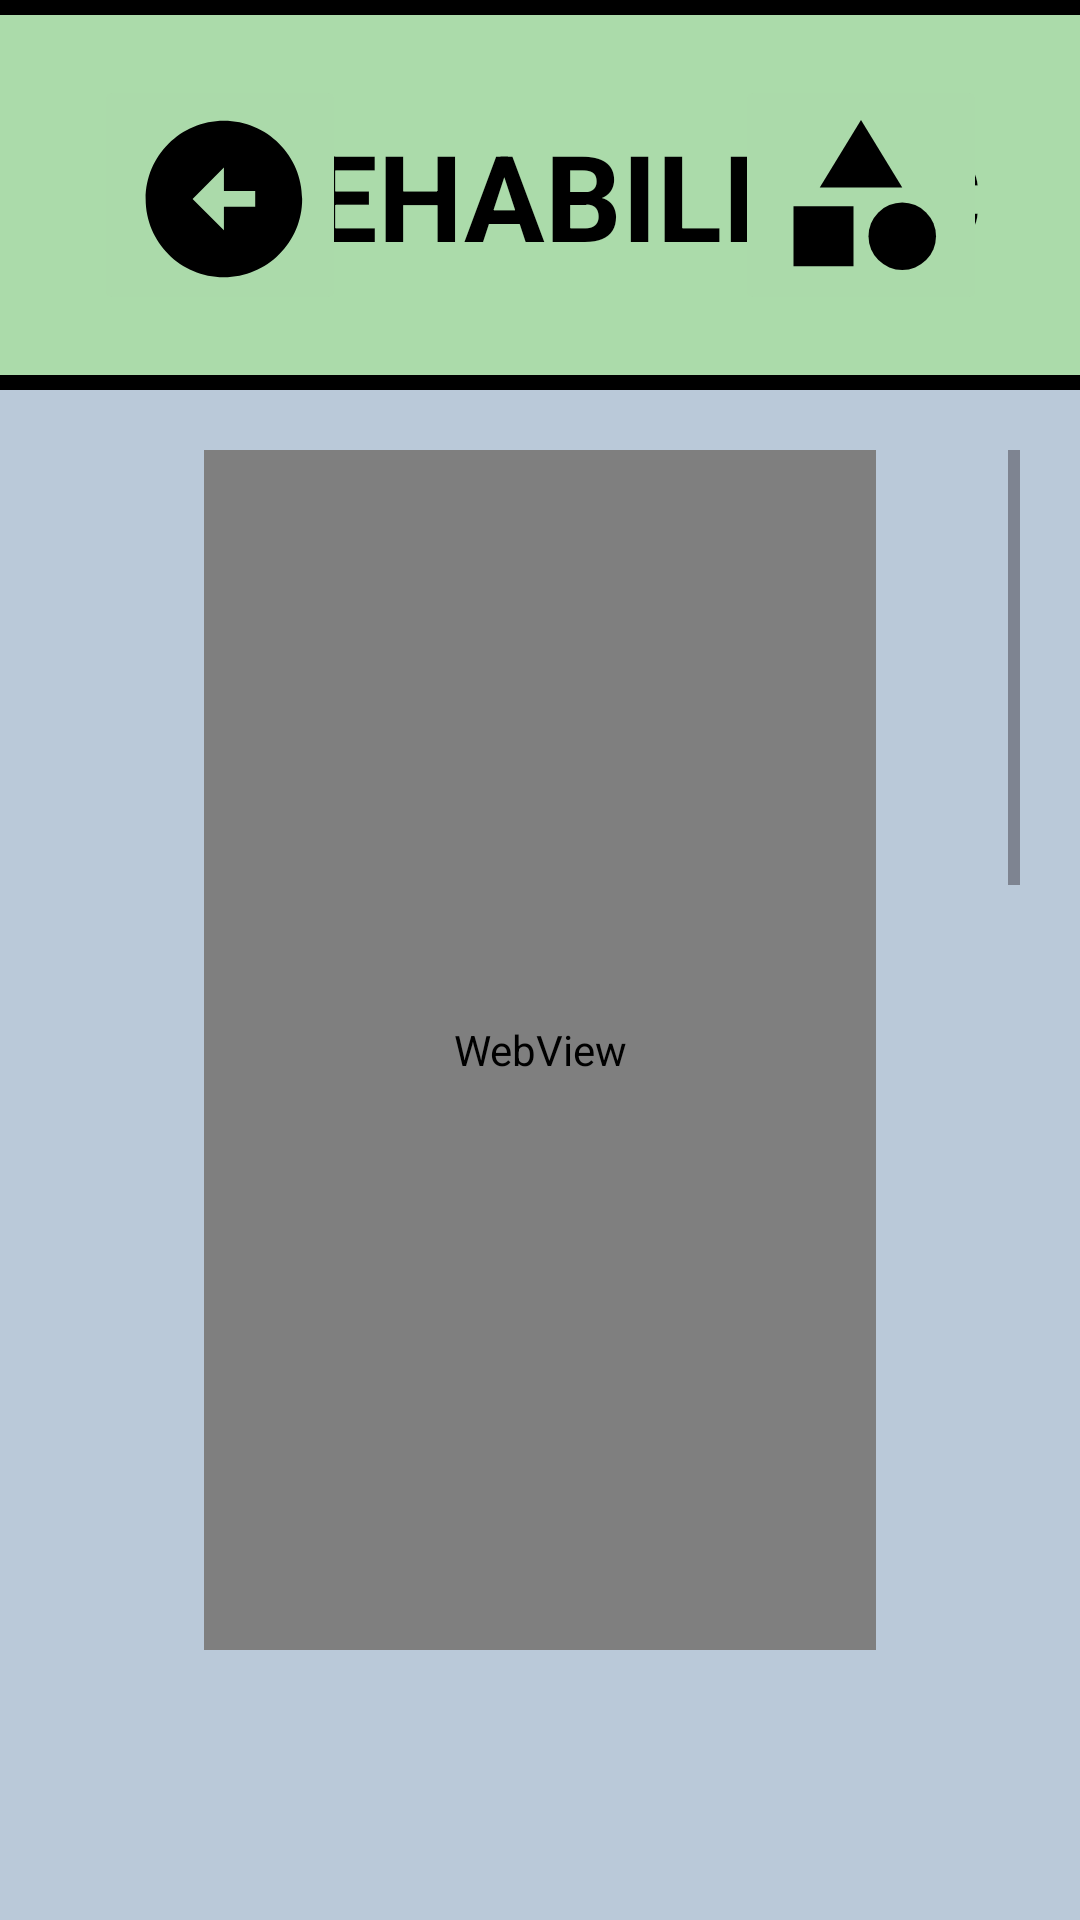

Named icons in this screenshot (1080px x 1920px) and their centers, (x,y):
arrow circle left: (224,199)
category: (856,195)
